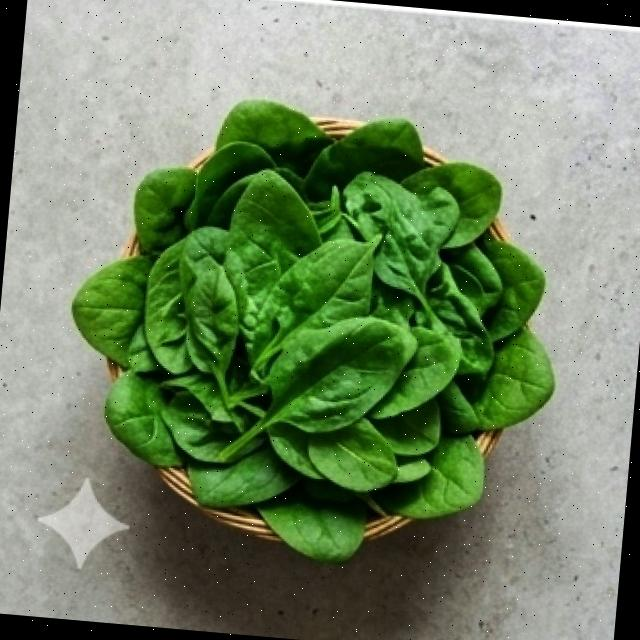spinach: (9, 26, 638, 624)
